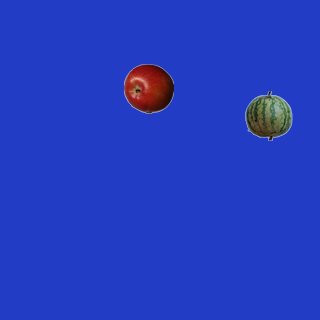Apple Braeburn: (123, 63, 173, 113)
Watermelon: (243, 90, 293, 140)
